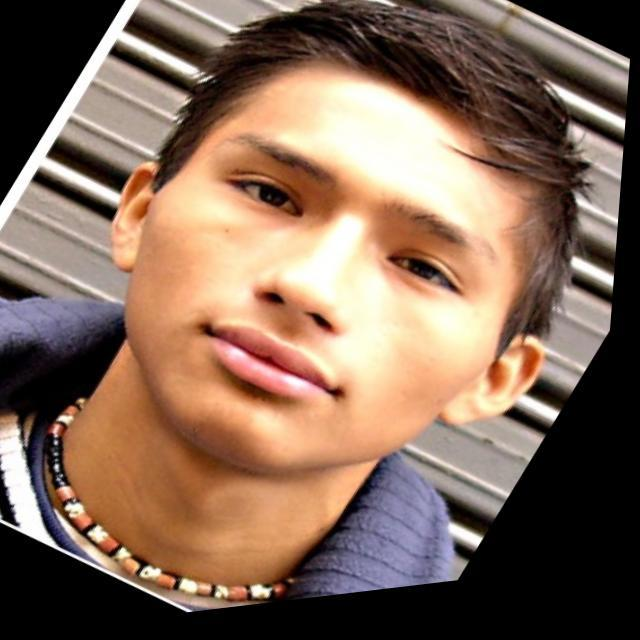Nonhelmet: (106, 6, 553, 474)
